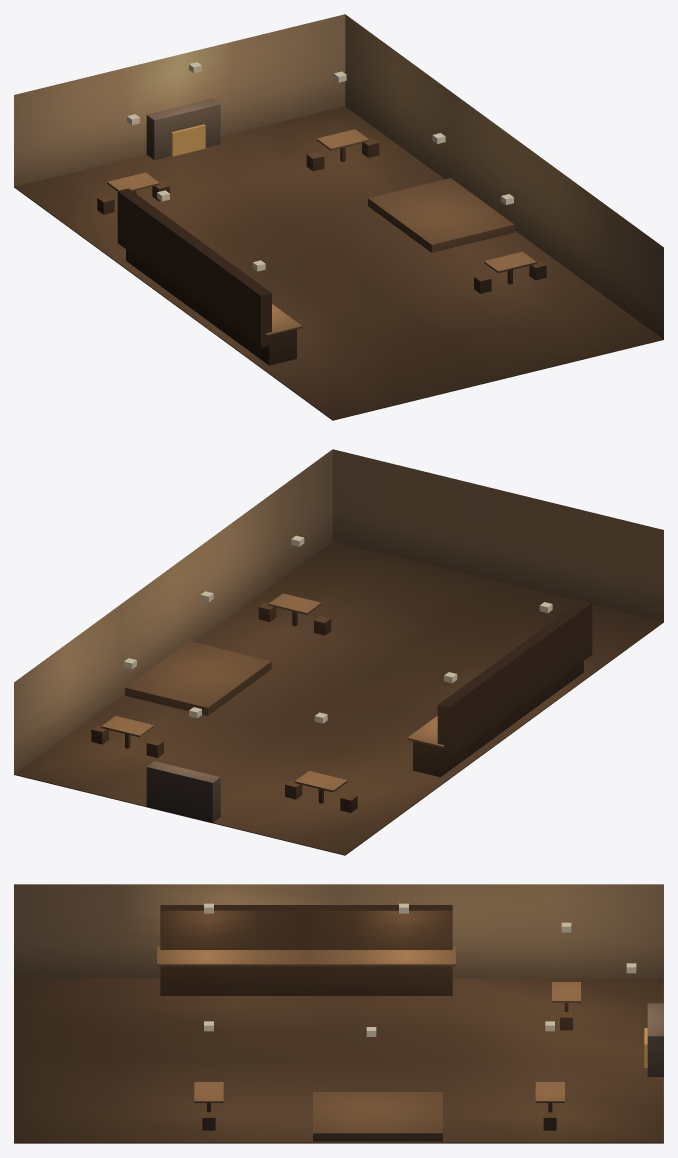
File: blockout-env.glb
The picture shows the model from 3 angles, top to bottom: view 1: azimuth 30°, elevation 25°; view 2: azimuth 150°, elevation 25°; view 3: azimuth 270°, elevation 25°; orthographic projection.
Parts seen in each view (by area): view 1: env_floor, env_room, env_bar, env_stage, env_fireplace, env_tables, env_stools, env_lamps; view 2: env_floor, env_room, env_bar, env_stage, env_fireplace, env_tables, env_stools, env_lamps; view 3: env_floor, env_room, env_bar, env_stage, env_tables, env_fireplace, env_lamps, env_stools.
Boxes of the visible parts, bbox=[...] form: env_floor: bbox=[14, 106, 663, 420]; env_room: bbox=[14, 14, 663, 420]; env_bar: bbox=[117, 188, 302, 365]; env_stage: bbox=[368, 178, 514, 252]; env_fireplace: bbox=[146, 98, 220, 160]; env_tables: bbox=[107, 129, 536, 284]; env_stools: bbox=[97, 138, 546, 293]; env_lamps: bbox=[127, 62, 513, 271]; env_floor: bbox=[14, 541, 663, 855]; env_room: bbox=[14, 449, 663, 855]; env_bar: bbox=[407, 600, 592, 777]; env_stage: bbox=[125, 641, 271, 715]; env_fireplace: bbox=[146, 761, 220, 823]; env_tables: bbox=[101, 593, 347, 803]; env_stools: bbox=[91, 602, 357, 812]; env_lamps: bbox=[124, 535, 552, 723]; env_floor: bbox=[14, 978, 663, 1143]; env_room: bbox=[14, 884, 663, 1143]; env_bar: bbox=[157, 905, 455, 995]; env_stage: bbox=[313, 1092, 442, 1141]; env_tables: bbox=[194, 982, 580, 1112]; env_fireplace: bbox=[644, 1003, 663, 1077]; env_lamps: bbox=[204, 903, 636, 1036]; env_stools: bbox=[202, 1012, 572, 1130].
Bounding box in the file's own units: 12 × 3.25 × 20.
